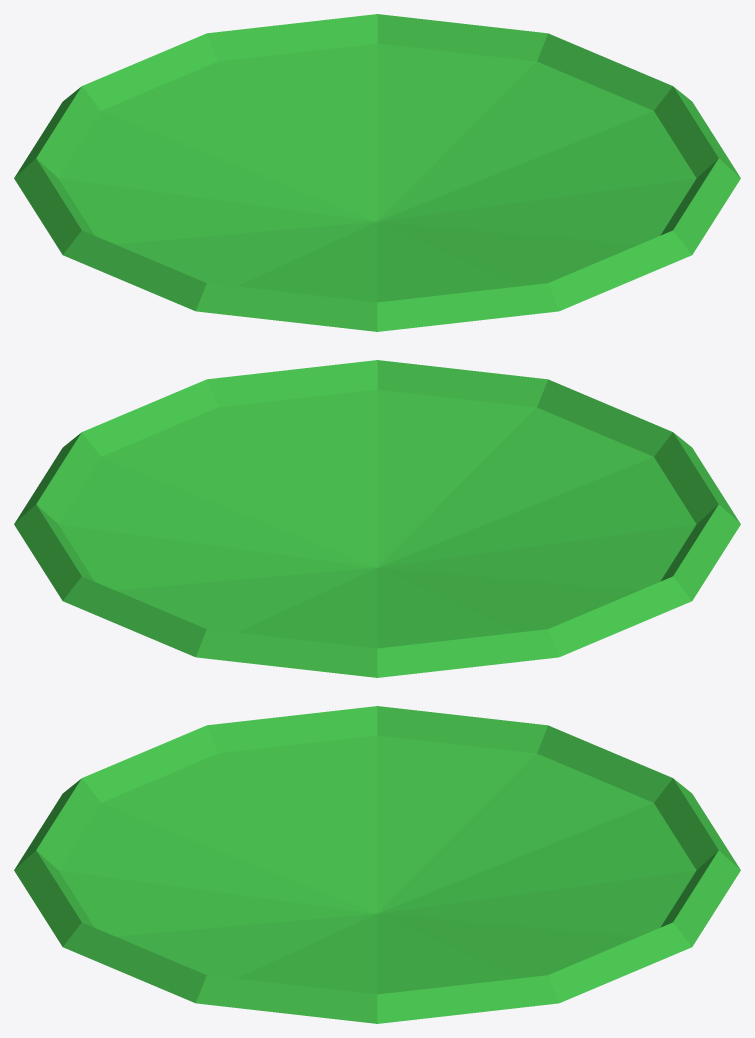
Rendered from ring.glb.
3 views of the same model, one above another, from view 1: azimuth 30°, elevation 25°; view 2: azimuth 150°, elevation 25°; view 3: azimuth 270°, elevation 25° (orthographic).
Parts seen in each view (by area): view 1: ring; view 2: ring; view 3: ring.
Boxes of the visible parts, x1=… form: ring: x1=14, y1=14, x2=740, y2=331; ring: x1=14, y1=360, x2=740, y2=677; ring: x1=14, y1=706, x2=740, y2=1023.
Bounding box in the file's own units: 8.52 × 0.8412 × 8.52.
